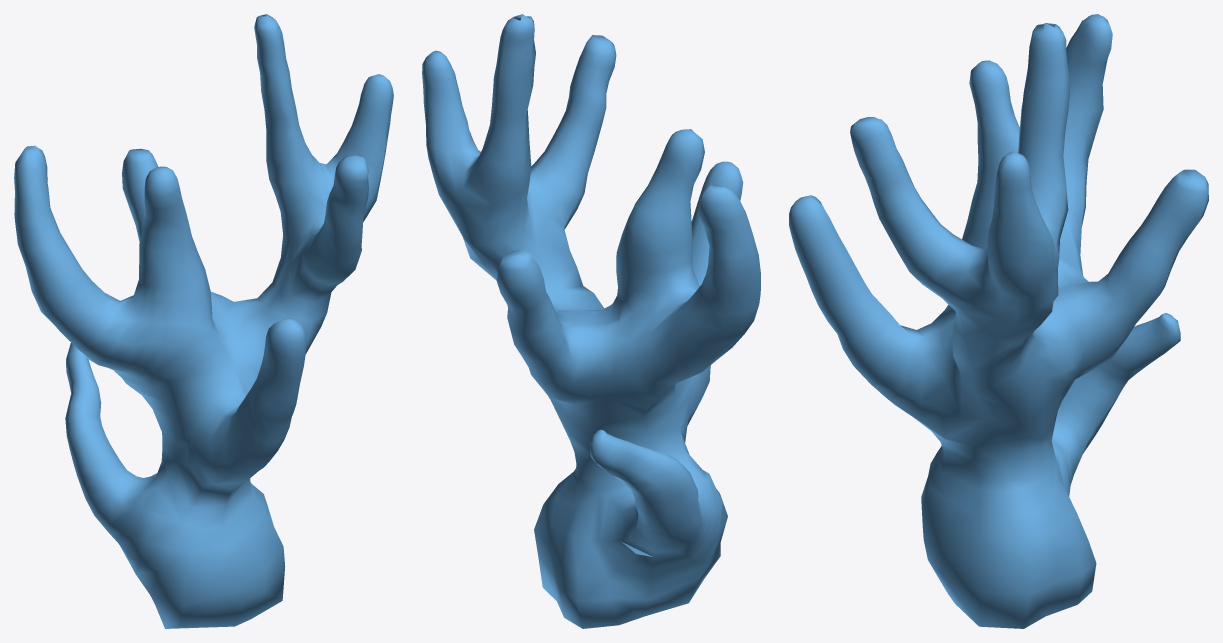
File: Area1.Coral2.fbx
The picture shows the model from 3 angles, left to right: view 1: azimuth 30°, elevation 25°; view 2: azimuth 150°, elevation 25°; view 3: azimuth 270°, elevation 25°; orthographic projection. The views are drawn at different scales.
Visible parts, largest first — view 1: Coral01; view 2: Coral01; view 3: Coral01.
Boxes of the visible parts, x1=… form: Coral01: x1=14, y1=14, x2=393, y2=628; Coral01: x1=422, y1=14, x2=760, y2=628; Coral01: x1=789, y1=14, x2=1208, y2=628.
Size of the model in its own units: 355 by 551 by 343.
